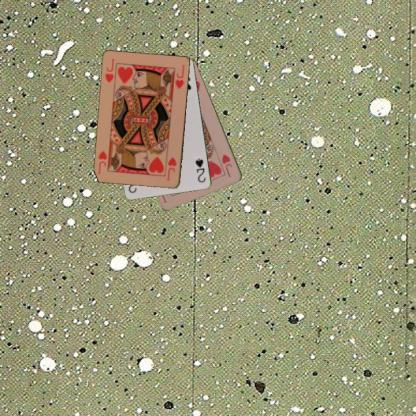2s: (193, 155, 207, 184)
Jh: (220, 152, 234, 178), (165, 154, 178, 182), (103, 56, 115, 84)
